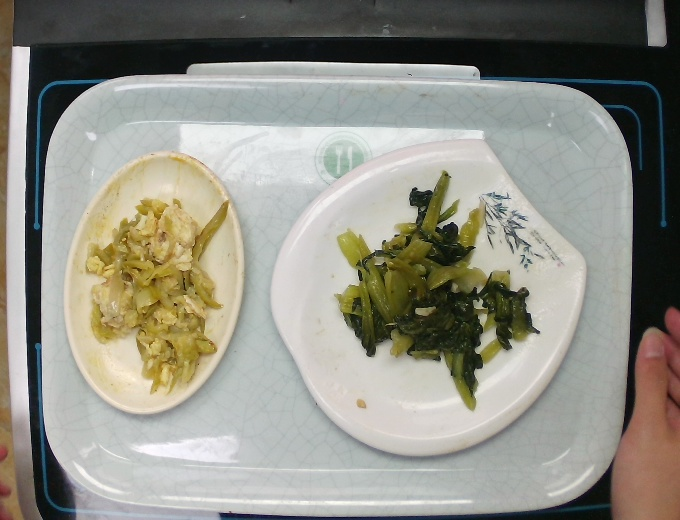JYsf-Mian_Pan: (264, 136, 592, 464)
JYsf-Tuo_Yuan_Wan: (60, 146, 249, 415)
